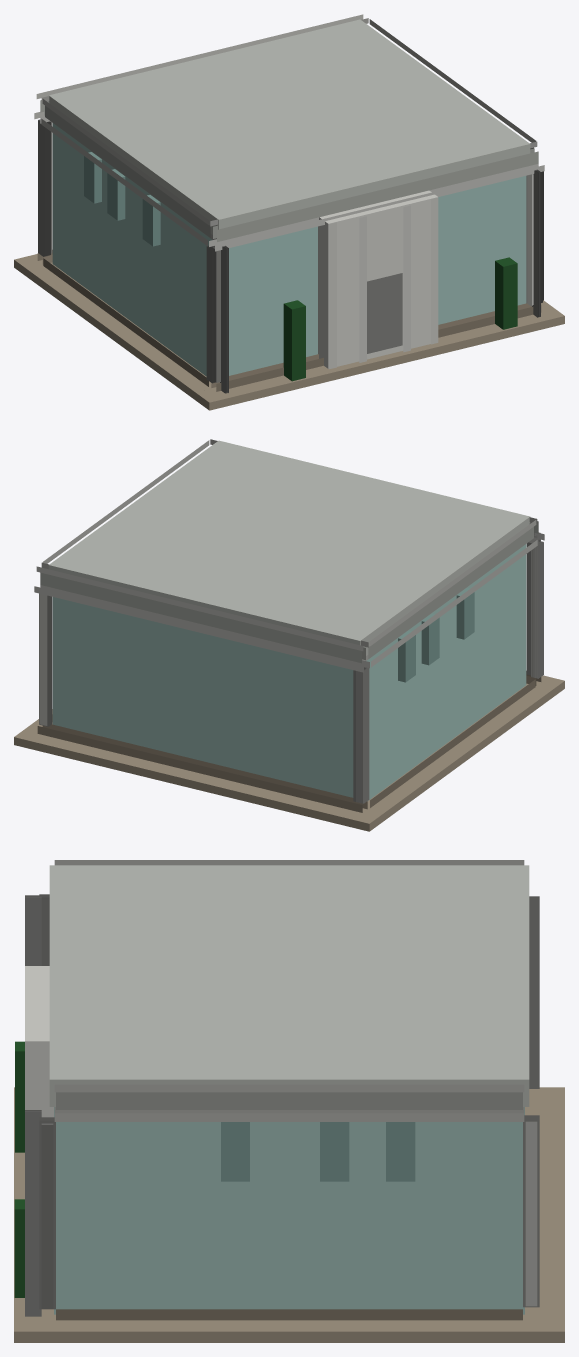
The model's file is GiantCactusSil.fbx.
The picture shows the model from 3 angles, top to bottom: view 1: azimuth 30°, elevation 25°; view 2: azimuth 150°, elevation 25°; view 3: azimuth 270°, elevation 25°; orthographic projection. The views are drawn at different scales.
Visible parts, largest first — view 1: GK_S_All; view 2: GK_S_All; view 3: GK_S_All.
Boxes of the visible parts, x1,y1,x2,y2 form: GK_S_All: (14,14,564,410); GK_S_All: (14,439,564,831); GK_S_All: (14,860,564,1342).
Size of the model in its own units: 42.04 by 19.9 by 40.04.
